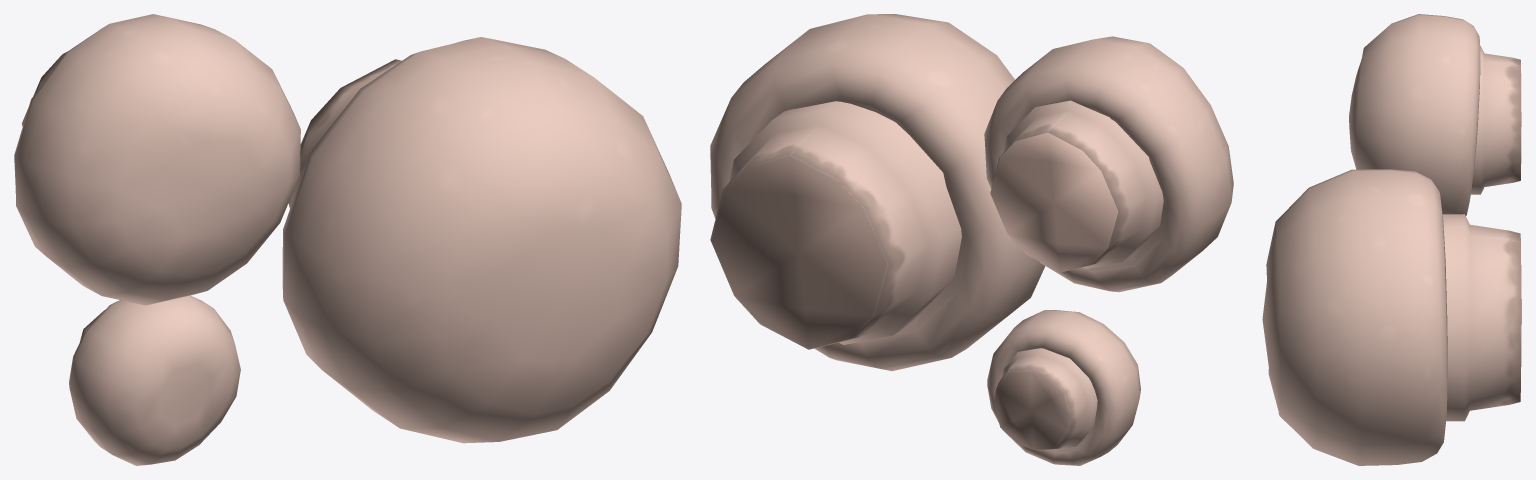
File: mushroom7.glb
The picture shows the model from 3 angles, left to right: view 1: azimuth 30°, elevation 25°; view 2: azimuth 150°, elevation 25°; view 3: azimuth 270°, elevation 25°; orthographic projection. The views are drawn at different scales.
Visible parts, largest first — view 1: 1.001_Cube.006; view 2: 1.001_Cube.006; view 3: 1.001_Cube.006.
Boxes of the visible parts, left/top/right/bottom form: 1.001_Cube.006: left=14, top=14, right=681, bottom=465; 1.001_Cube.006: left=710, top=14, right=1233, bottom=465; 1.001_Cube.006: left=1262, top=14, right=1521, bottom=465.
Bounding box in the file's own units: 1.3 × 0.9506 × 0.6681.
1 material, 1 textured.
